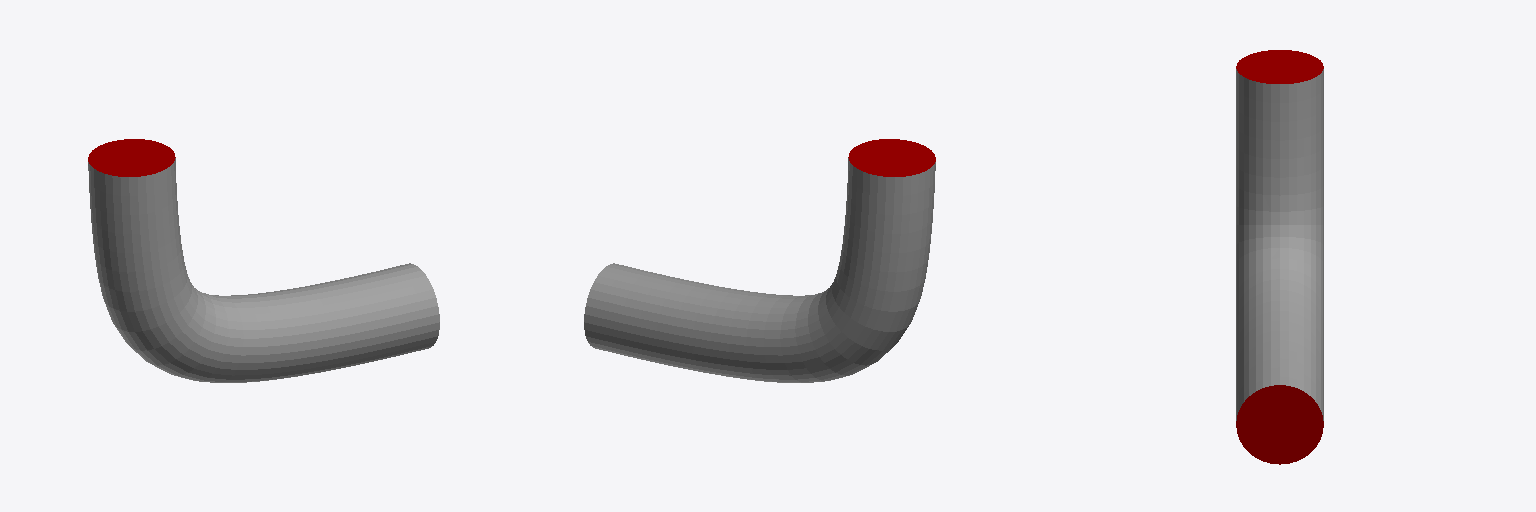
File: pipe-artistic.obj
The picture shows the model from 3 angles: view 1: azimuth 30°, elevation 25°; view 2: azimuth 150°, elevation 25°; view 3: azimuth 270°, elevation 25°; orthographic projection.
Parts seen in each view (by area): view 1: pipe; view 2: pipe; view 3: pipe.
Boxes of the visible parts, x1,y1,x2,y2 form: pipe: [88, 139, 439, 382]; pipe: [584, 139, 935, 382]; pipe: [1236, 50, 1323, 464].
Bounding box in the file's own units: 3.33 × 2.54 × 0.779.